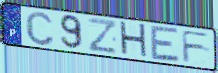9: (59, 13, 84, 50)
C: (24, 10, 56, 47)
E: (149, 24, 181, 64)
F: (180, 29, 212, 64)
H: (118, 20, 149, 61)
Z: (87, 16, 118, 55)
